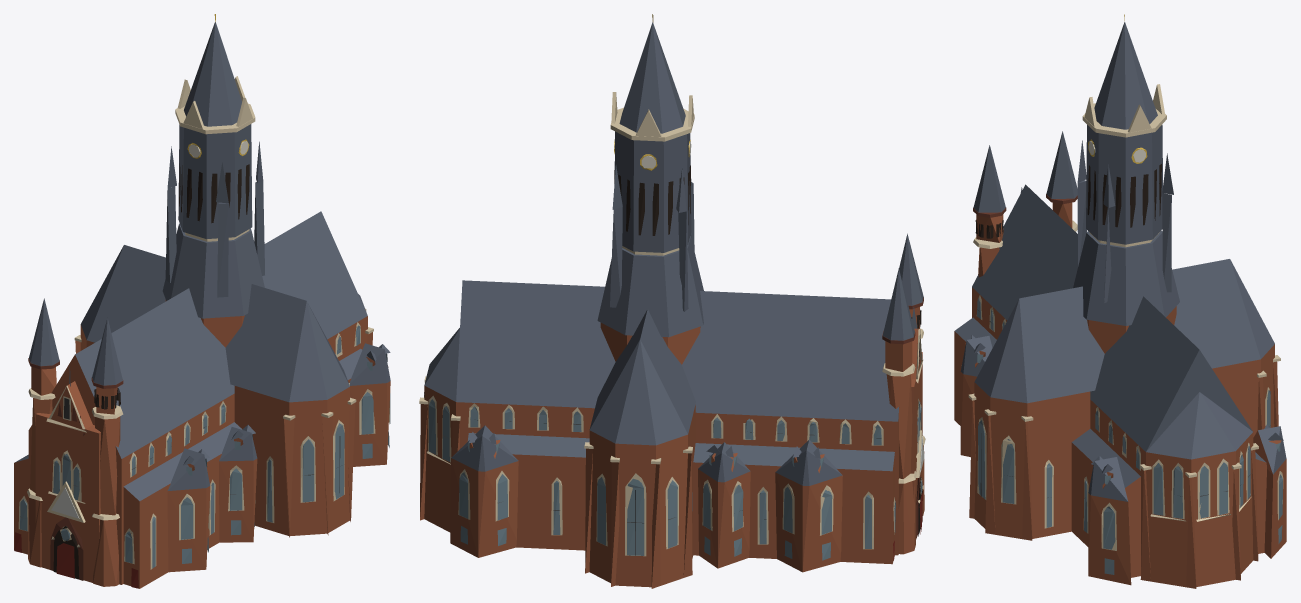
Rendered from vondelkerk.lod1.glb.
The picture shows the model from 3 angles, left to right: view 1: azimuth 30°, elevation 25°; view 2: azimuth 150°, elevation 25°; view 3: azimuth 270°, elevation 25°; orthographic projection. The views are drawn at different scales.
Parts seen in each view (by area): view 1: vondelkerk; view 2: vondelkerk; view 3: vondelkerk.
Part boxes in pixels (left/top/right/bottom): vondelkerk: left=14, top=14, right=390, bottom=588; vondelkerk: left=419, top=14, right=925, bottom=588; vondelkerk: left=954, top=14, right=1286, bottom=588.
Size of the model in its own units: 42.5 by 48.3 by 29.95.
